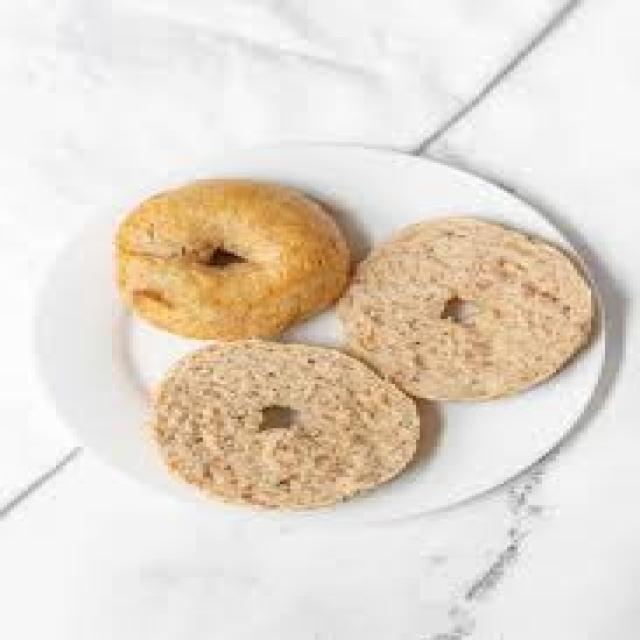Bagel: (338, 217, 592, 399), (154, 343, 417, 508), (116, 179, 349, 339)
